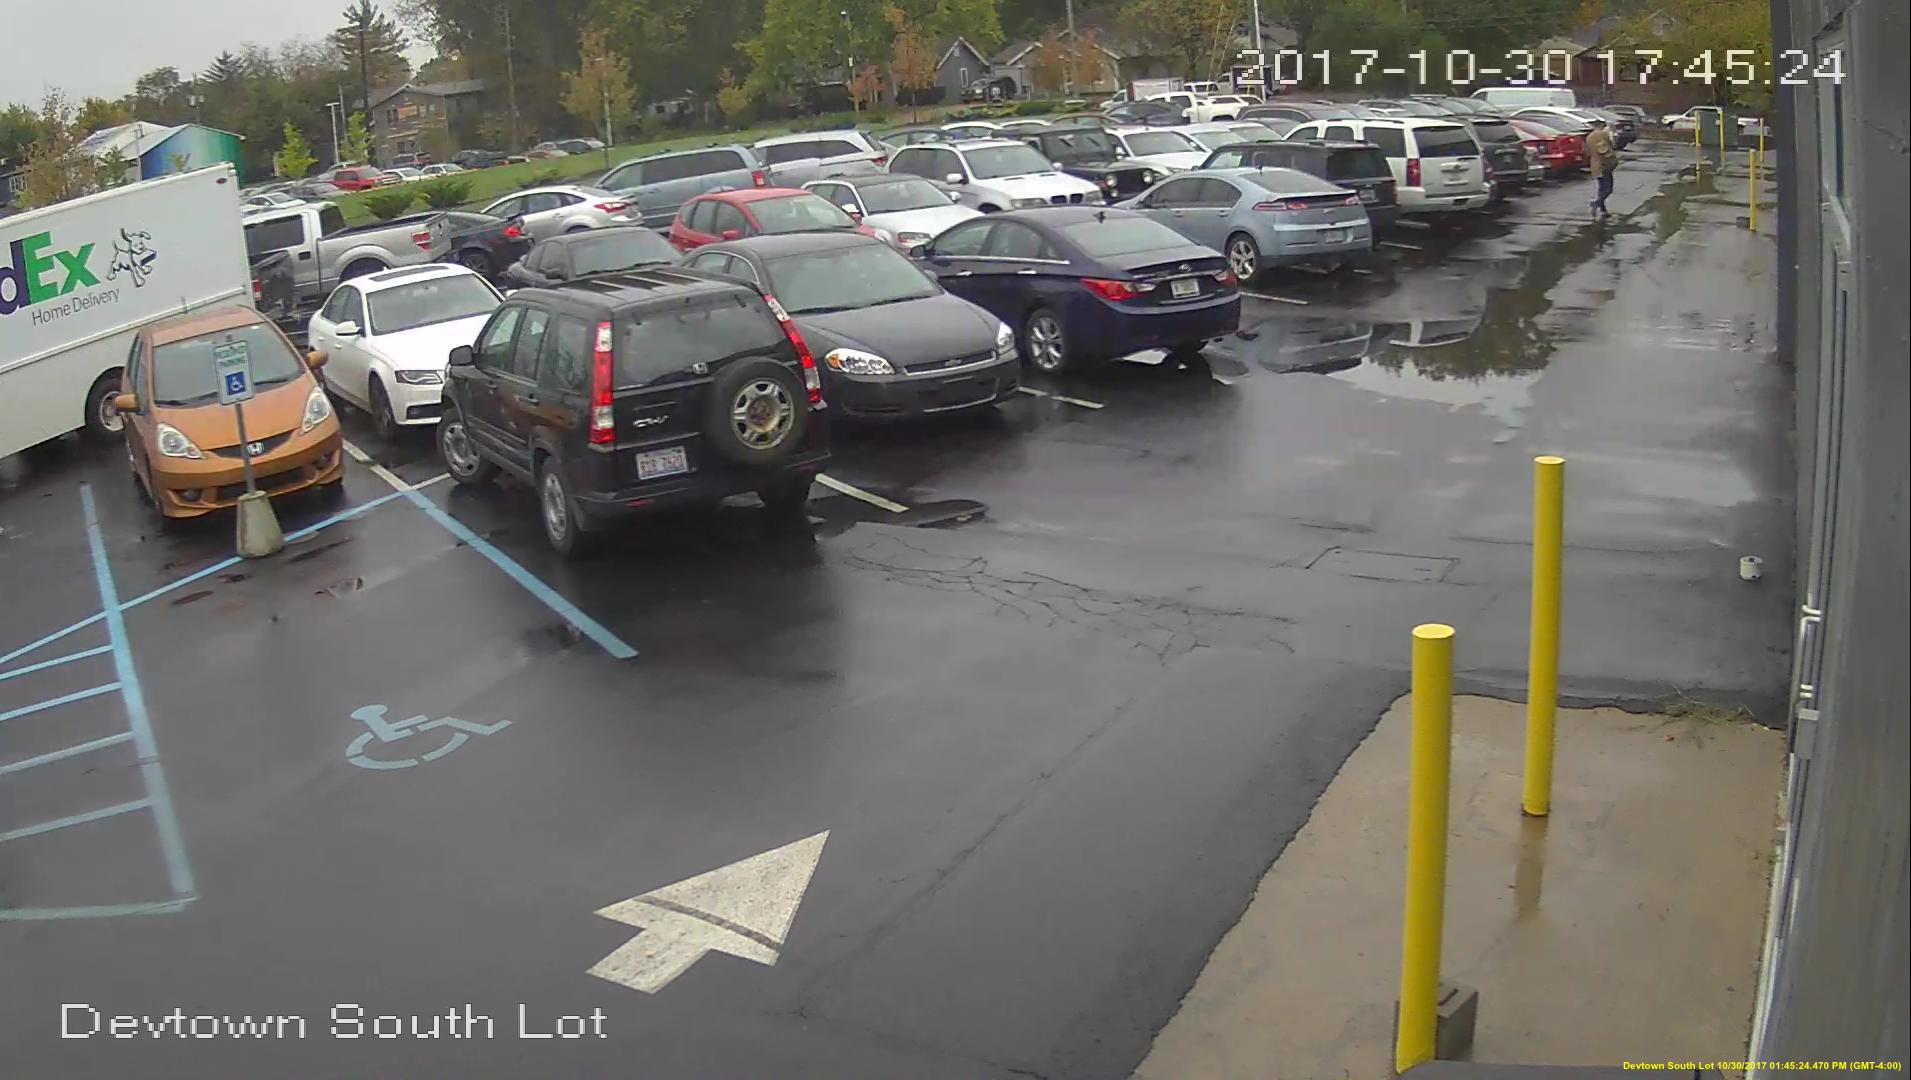fedex_truck: (1, 199, 215, 423)
